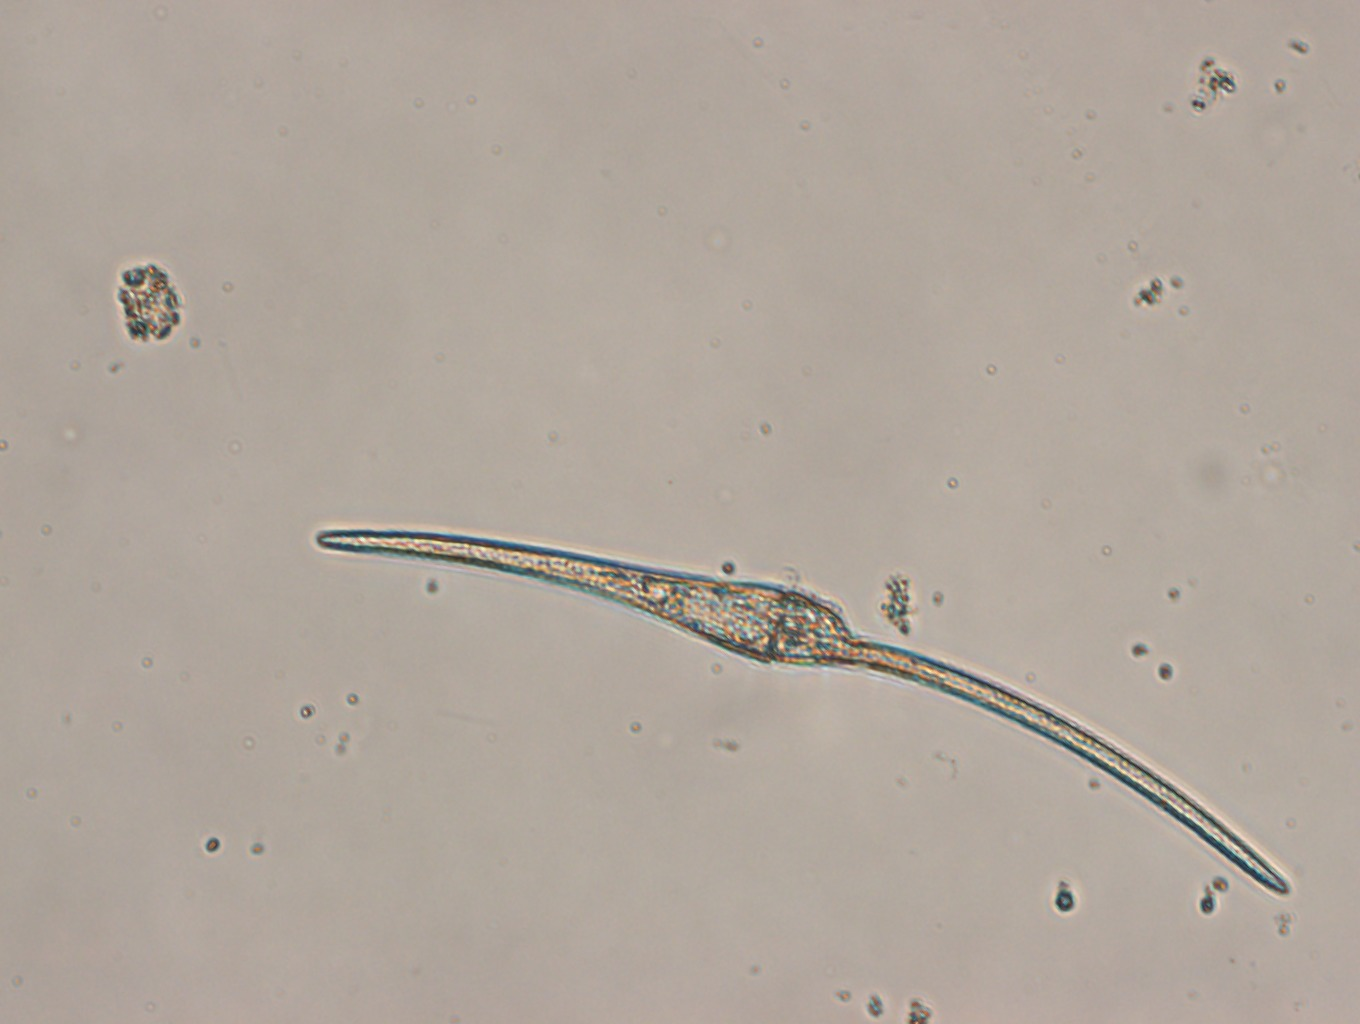ceratium fusus: (311, 526, 1294, 902)
